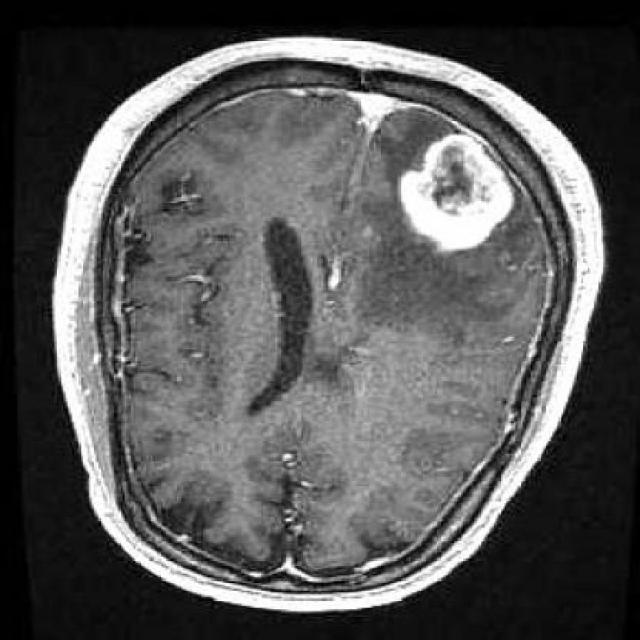Brain-Tumor: (374, 109, 536, 277)
